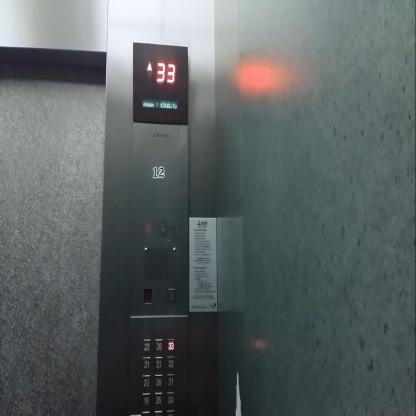19: (141, 392, 150, 408)
20: (141, 374, 150, 388)
21: (142, 356, 151, 371)
22: (142, 338, 151, 354)
25: (154, 392, 163, 406)
26: (154, 374, 163, 388)
27: (154, 356, 163, 370)
28: (154, 338, 164, 353)
30: (166, 391, 175, 406)
31: (166, 373, 174, 388)
32: (166, 356, 176, 370)
33: (166, 338, 174, 353)
alarm: (167, 288, 175, 304)
empty: (143, 288, 152, 303)
led: (131, 40, 190, 128)
